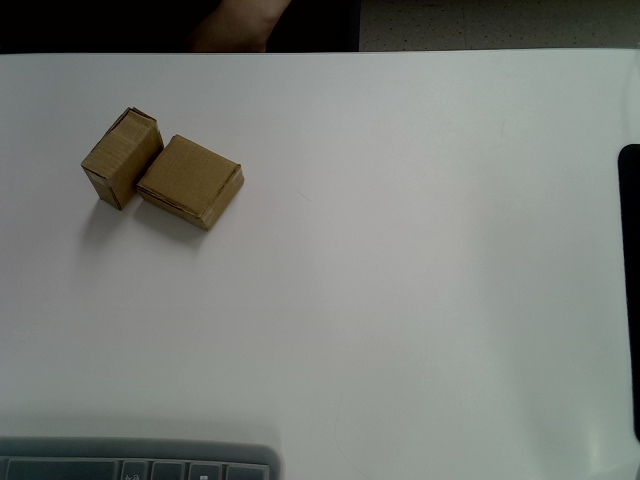normal: (136, 135, 245, 230), (81, 107, 164, 211)
